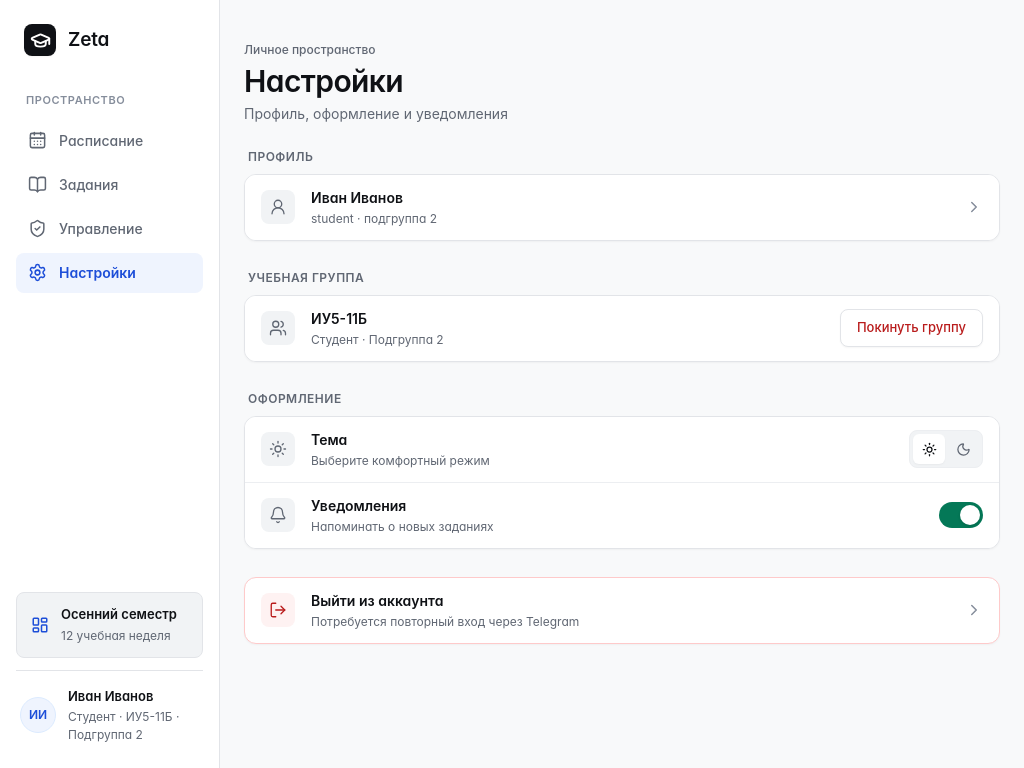
SettingsPage - Group Settings › displays error message in modal and toast if leaving group fails
Click the button "Покинуть группу" at (911, 328), box [840, 309, 983, 347]
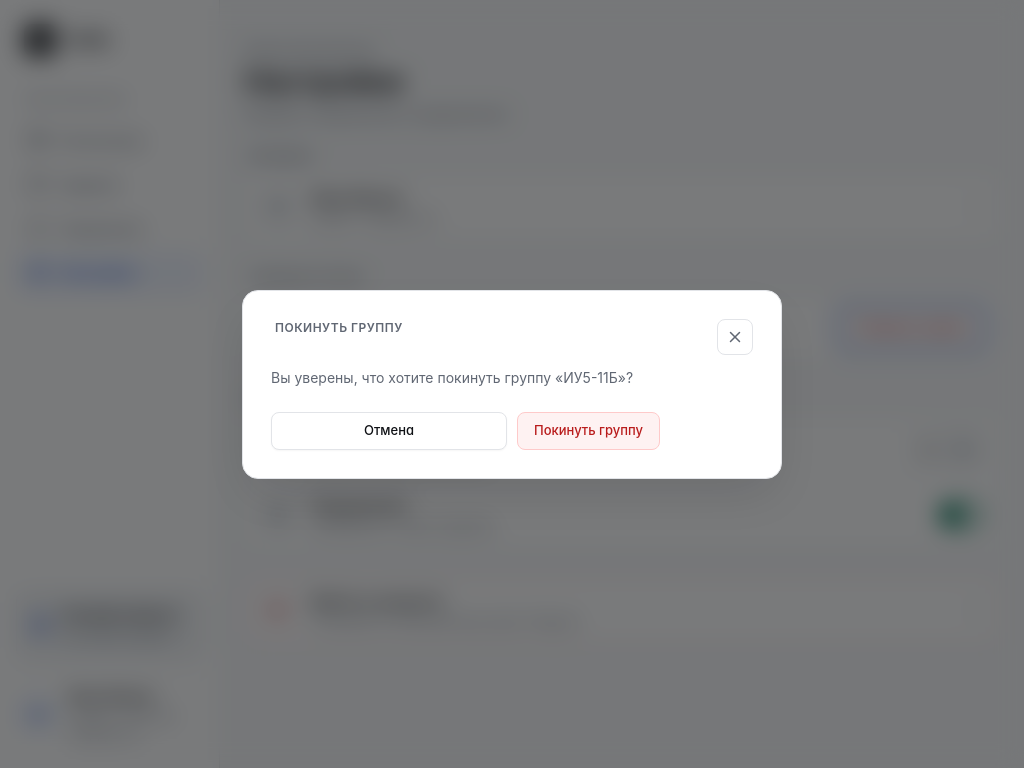
Click the button "Покинуть группу" at (589, 430), box [517, 412, 660, 450]
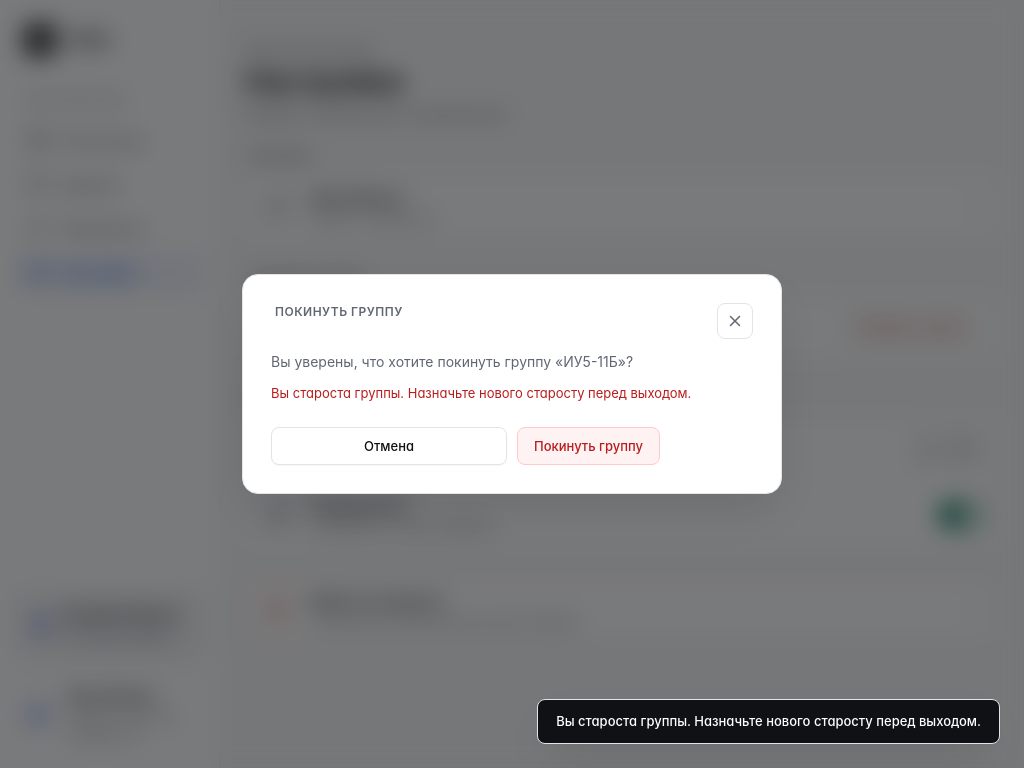
Now the message "Вы староста группы. Назначьте нового старосту перед выходом." below "Вы уверены, что хотите покинуть группу «" is shown, box [271, 385, 691, 401]
Now the 2nd message "Вы староста группы. Назначьте нового старосту перед выходом." is shown, box [537, 698, 1000, 744]
